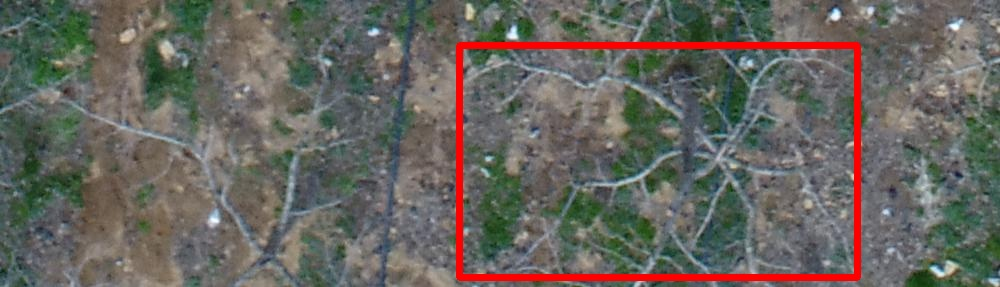apple: (459, 45, 857, 277)
